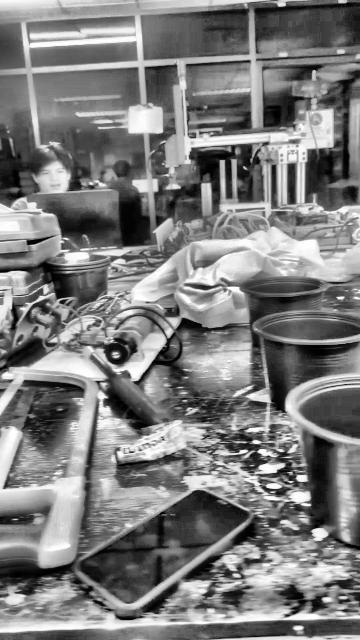pot: (286, 375, 359, 547), (253, 310, 359, 410), (241, 276, 327, 347), (43, 260, 115, 313)
